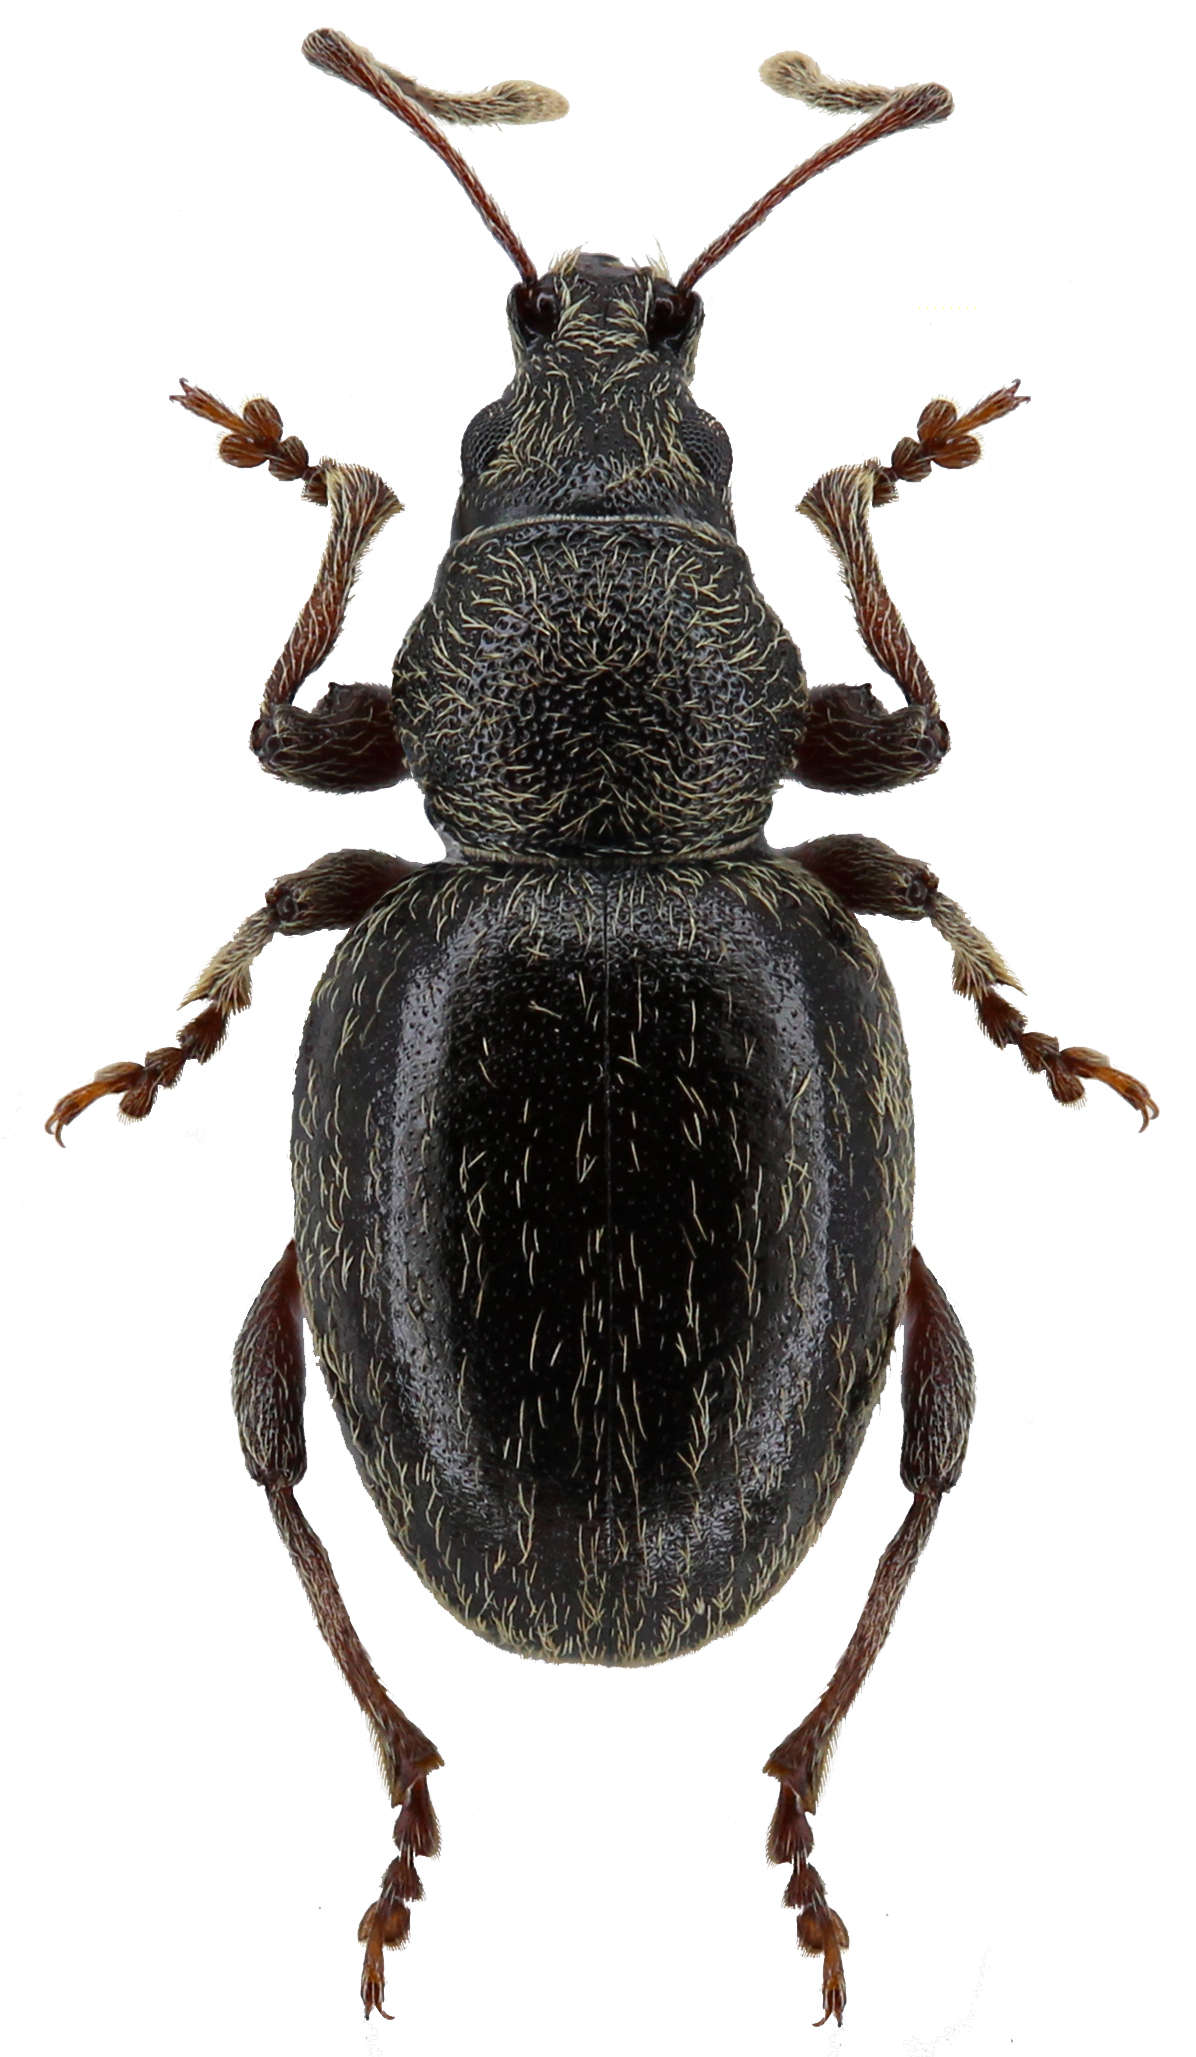dolgonosik: (147, 41, 1150, 2029)
